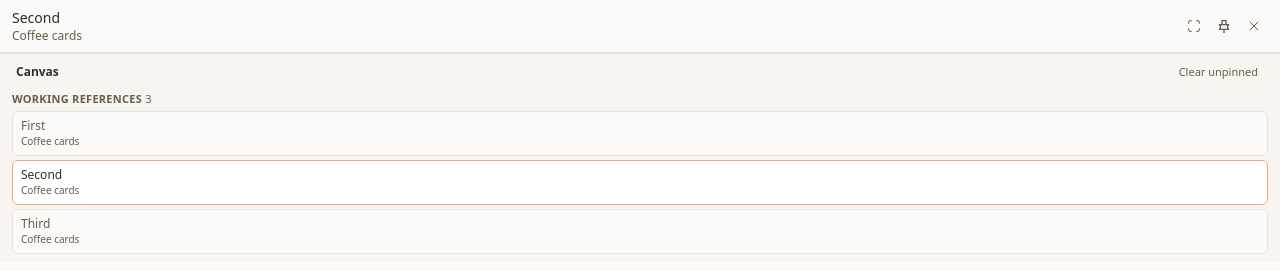
Test case: Canvas active scene and evidence shelf › removes the active scene and focuses the next retained shelf item
The width and height of the screenshot is (1280, 271).
Click the button named "Remove canvas item". click: (1254, 26)
box: [1240,12,1268,40]
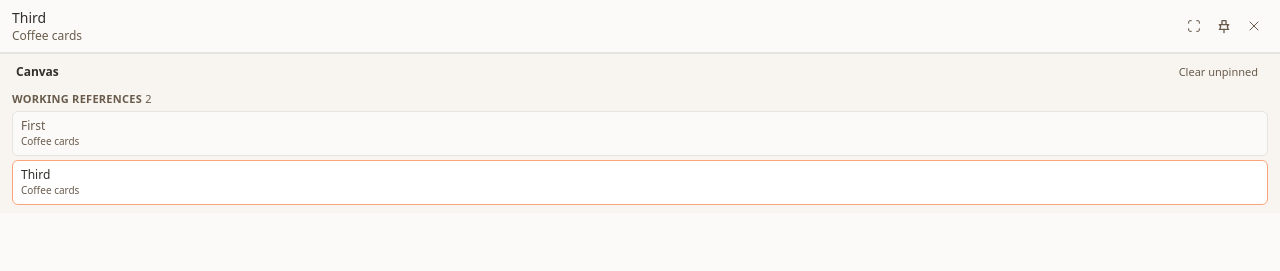
Now the heading "Third" is shown, box [12,8,46,28]
